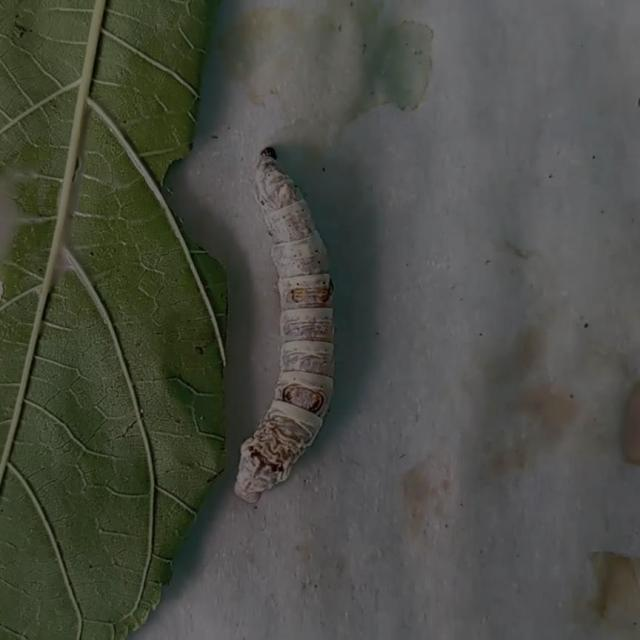Grasserie: (193, 117, 420, 519)
